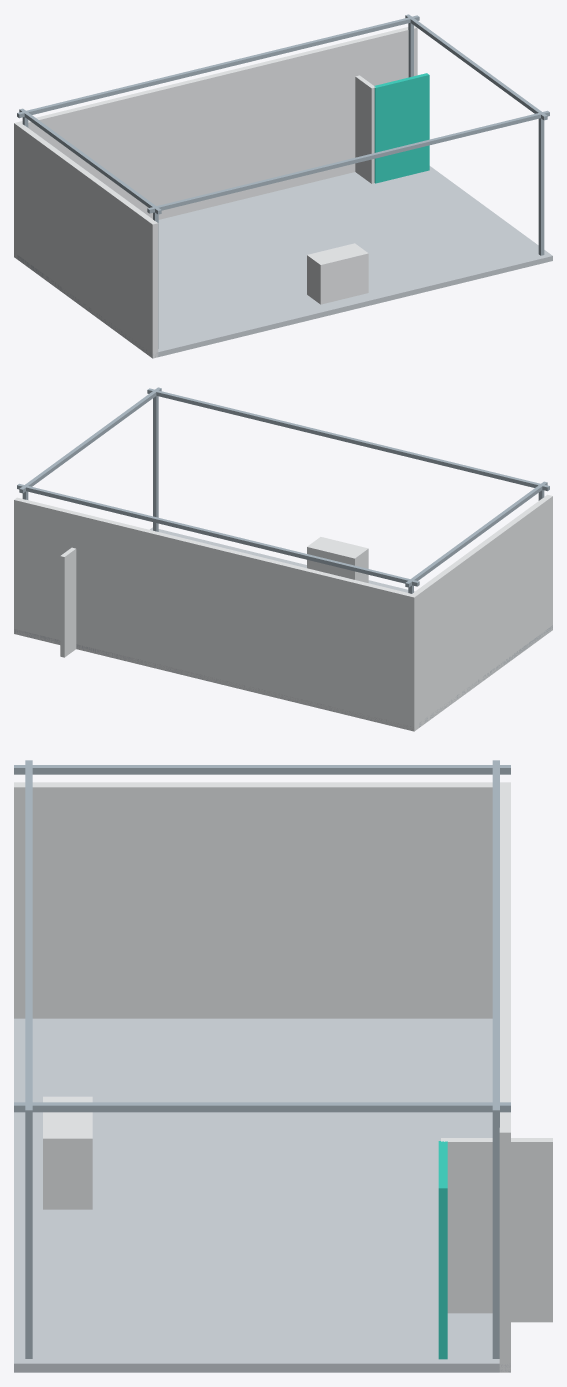
3 views of the same model, one above another, from view 1: azimuth 30°, elevation 25°; view 2: azimuth 150°, elevation 25°; view 3: azimuth 270°, elevation 25° (orthographic). The views are drawn at different scales.
Parts seen in each view (by area): view 1: Exhibition Booth Concept; view 2: Exhibition Booth Concept; view 3: Exhibition Booth Concept.
Boxes of the visible parts, x1,y1,x2,y2 form: Exhibition Booth Concept: [14, 14, 552, 358]; Exhibition Booth Concept: [14, 387, 552, 731]; Exhibition Booth Concept: [14, 760, 552, 1372].
Bounding box in the file's own units: 10 × 3.49 × 6.51.
